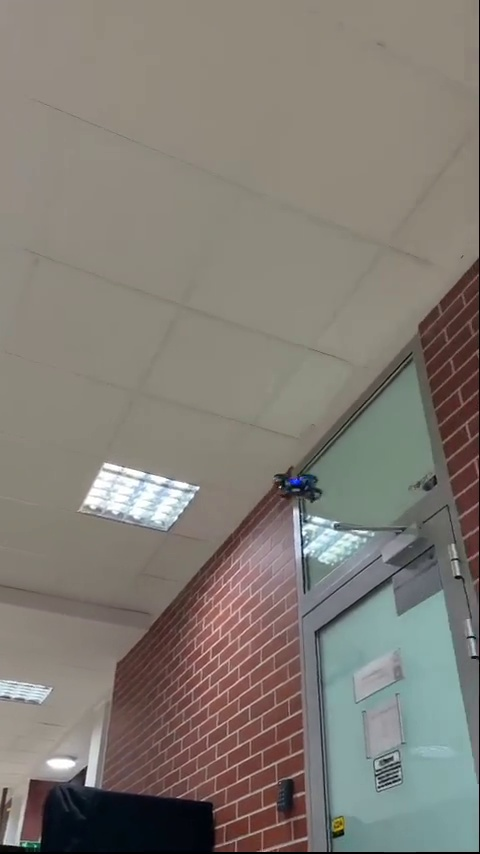drone: (270, 464, 331, 506)
